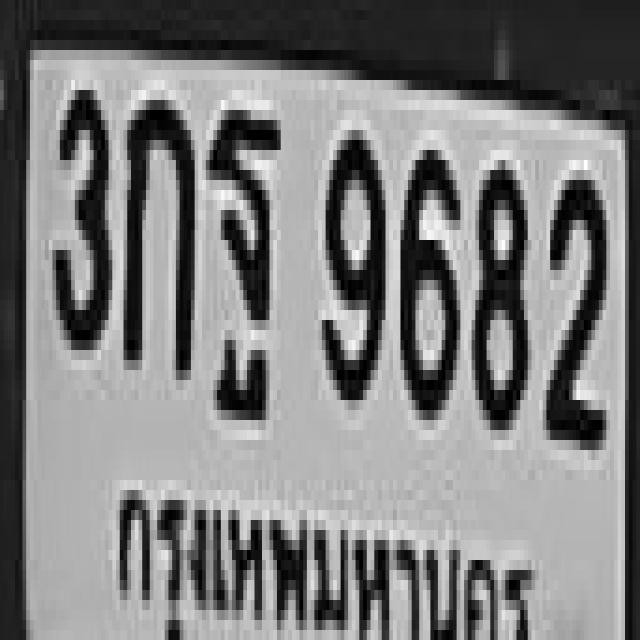10GorGai: (120, 90, 191, 370)
2: (542, 170, 602, 440)
25ThorThan: (206, 100, 277, 380)
3: (48, 80, 108, 340)
6: (396, 140, 456, 410)
8: (472, 150, 524, 420)
9: (318, 120, 382, 390)
Bangkok: (109, 458, 543, 640)
